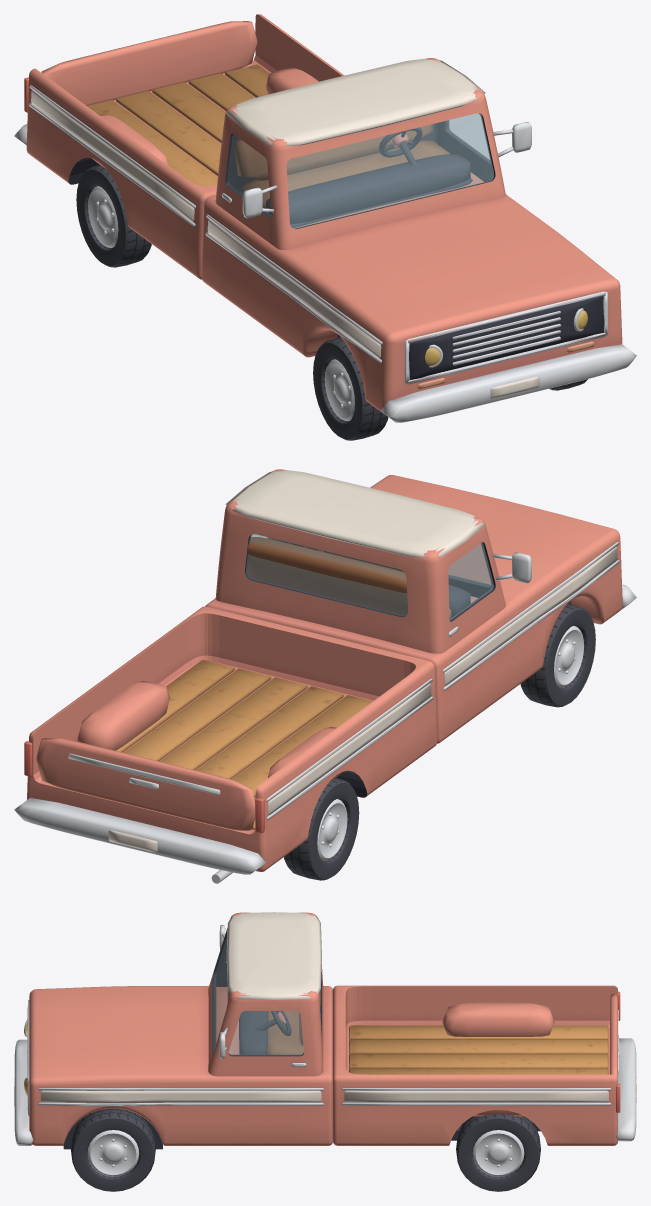
The model's file is 1970s-pickup-truck.glb.
3 views of the same model, one above another, from view 1: azimuth 30°, elevation 25°; view 2: azimuth 150°, elevation 25°; view 3: azimuth 270°, elevation 25° (orthographic). The views are drawn at different scales.
Parts seen in each view (by area): view 1: 1970s-pickup-truck_body, 1970s-pickup-truck_windows, 1970s-pickup-truck_tailgate, 1970s-pickup-truck_wheel_fr, 1970s-pickup-truck_wheel_rr, 1970s-pickup-truck_bed_wheel_well_l, 1970s-pickup-truck_bed_wheel_well_r; view 2: 1970s-pickup-truck_body, 1970s-pickup-truck_tailgate, 1970s-pickup-truck_windows, 1970s-pickup-truck_wheel_fr, 1970s-pickup-truck_wheel_rr, 1970s-pickup-truck_bed_wheel_well_l, 1970s-pickup-truck_bed_wheel_well_r; view 3: 1970s-pickup-truck_body, 1970s-pickup-truck_wheel_fl, 1970s-pickup-truck_wheel_rl, 1970s-pickup-truck_windows, 1970s-pickup-truck_bed_wheel_well_r, 1970s-pickup-truck_tailgate.
Part boxes in pixels (x1,y1,x2,y2): 1970s-pickup-truck_body: (14, 14, 636, 422); 1970s-pickup-truck_windows: (227, 113, 493, 228); 1970s-pickup-truck_tailgate: (41, 21, 257, 105); 1970s-pickup-truck_wheel_fr: (313, 336, 388, 440); 1970s-pickup-truck_wheel_rr: (76, 165, 151, 267); 1970s-pickup-truck_bed_wheel_well_l: (265, 68, 318, 94); 1970s-pickup-truck_bed_wheel_well_r: (92, 114, 167, 168); 1970s-pickup-truck_body: (14, 469, 636, 883); 1970s-pickup-truck_tailgate: (36, 738, 255, 830); 1970s-pickup-truck_windows: (246, 534, 493, 620); 1970s-pickup-truck_wheel_fr: (520, 603, 595, 707); 1970s-pickup-truck_wheel_rr: (284, 778, 359, 880); 1970s-pickup-truck_bed_wheel_well_l: (77, 681, 169, 750); 1970s-pickup-truck_bed_wheel_well_r: (268, 726, 343, 781); 1970s-pickup-truck_body: (14, 912, 636, 1149); 1970s-pickup-truck_wheel_fl: (70, 1108, 155, 1191); 1970s-pickup-truck_wheel_rl: (456, 1114, 540, 1191); 1970s-pickup-truck_windows: (214, 938, 303, 1054); 1970s-pickup-truck_bed_wheel_well_r: (442, 1002, 554, 1036); 1970s-pickup-truck_tailgate: (610, 993, 619, 1076).
Size of the model in its own units: 2.34 by 1.87 by 5.42.
22 materials, 5 textured.
